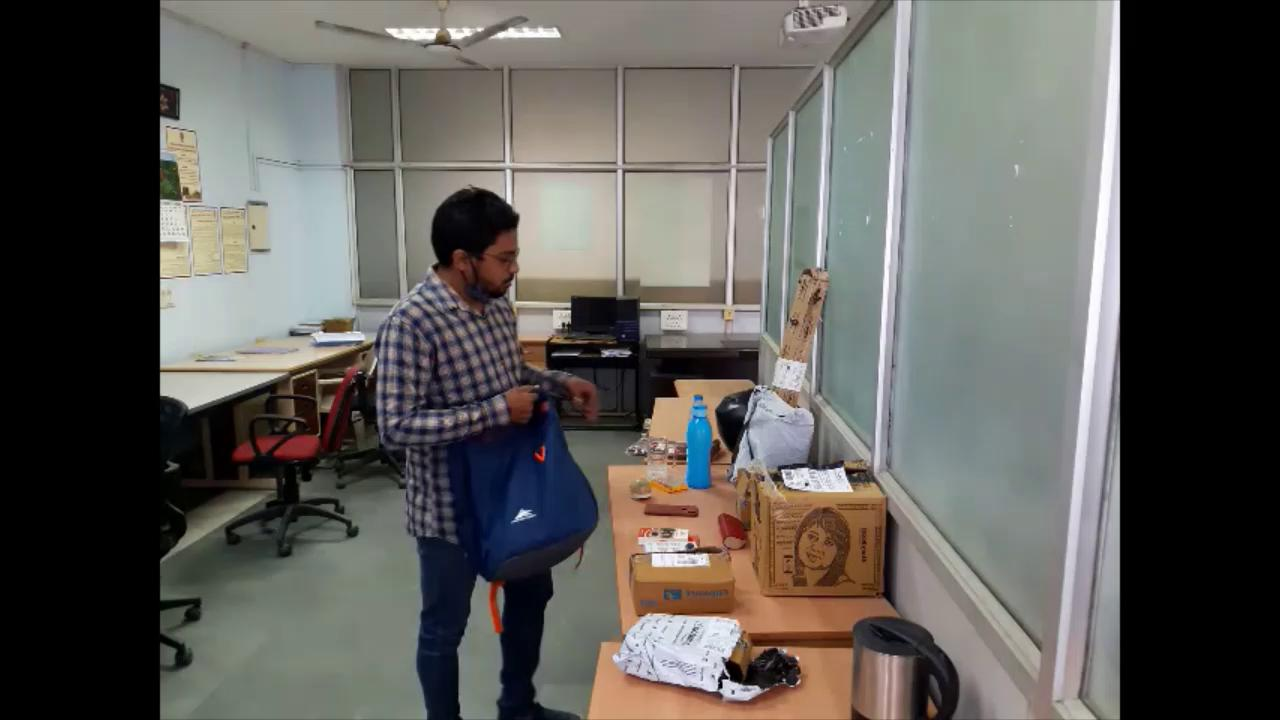shoplifting: (352, 178, 605, 720)
